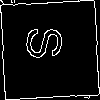S: (25, 24, 72, 61)
